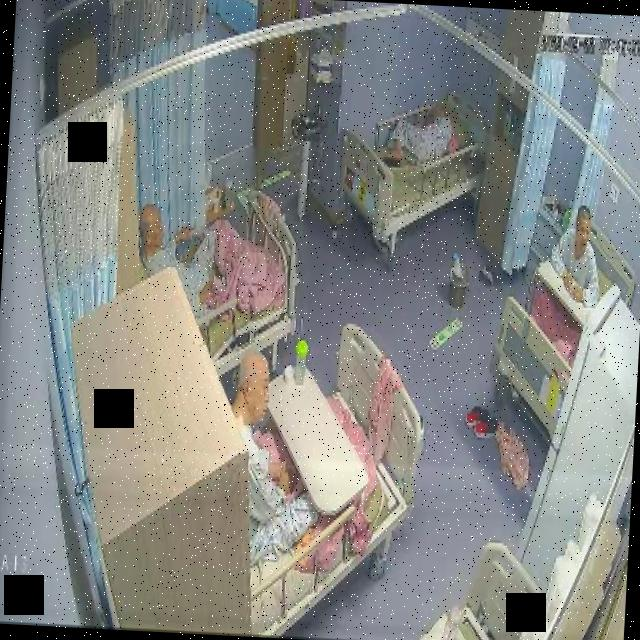bed: (237, 321, 427, 640), (488, 216, 640, 446), (166, 188, 302, 385), (336, 85, 485, 247)
lie: (382, 104, 458, 180)
patient: (222, 343, 328, 568), (134, 194, 230, 318), (546, 203, 606, 309), (382, 104, 458, 180)
sit: (220, 342, 328, 571), (133, 194, 230, 316), (548, 202, 604, 308)
